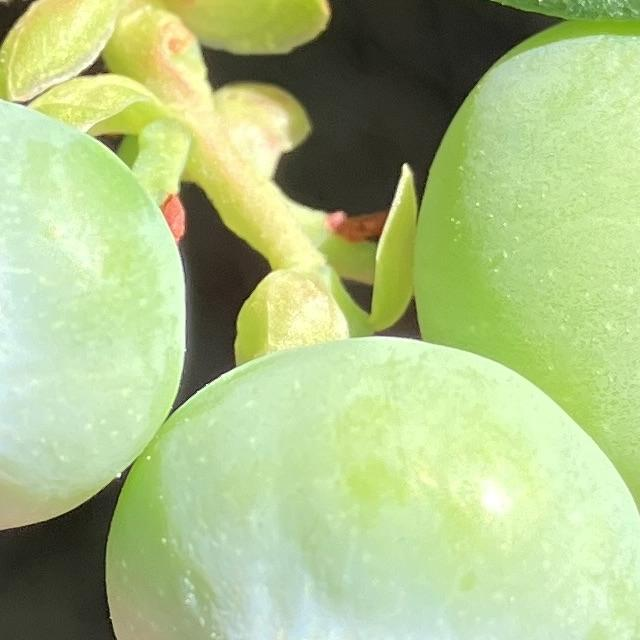Blueberries: (100, 330, 640, 640), (405, 15, 640, 554)
